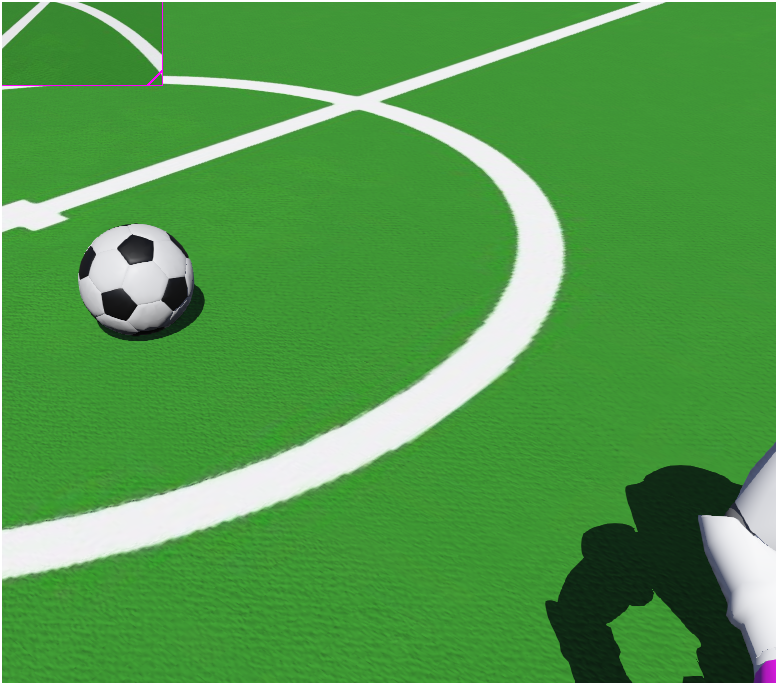Ball: (59, 160, 259, 402)
